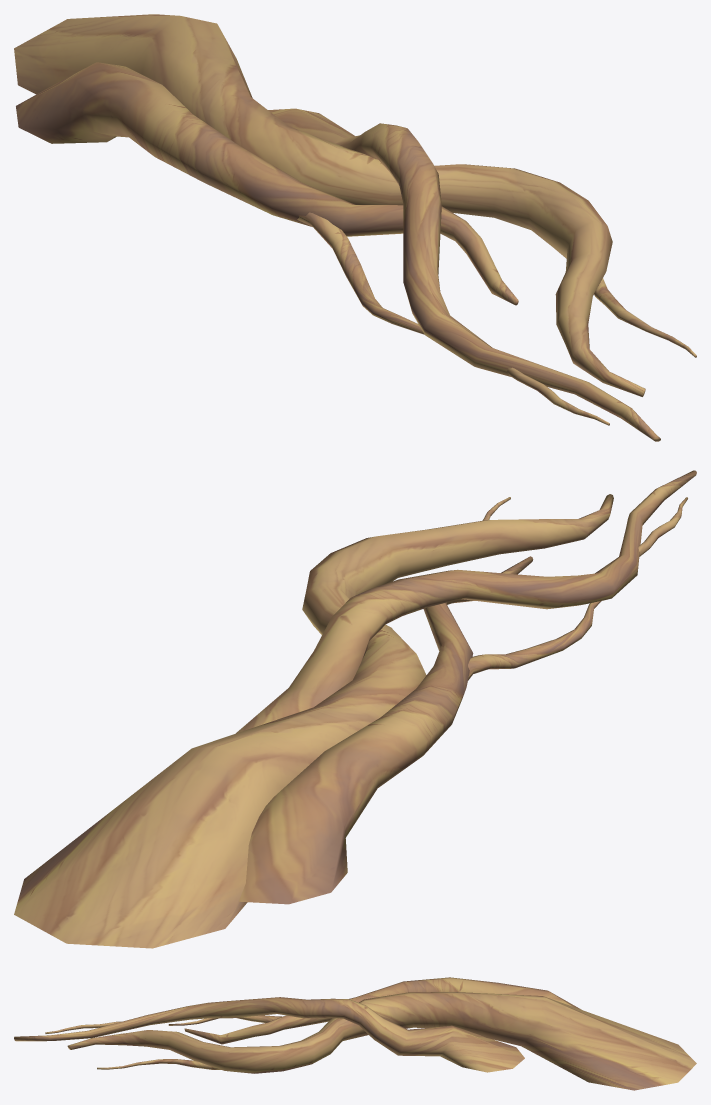
Rendered from SM_ENV_treeroot_ancient_03.fbx.
The picture shows the model from 3 angles, top to bottom: view 1: azimuth 30°, elevation 25°; view 2: azimuth 150°, elevation 25°; view 3: azimuth 270°, elevation 25°; orthographic projection. The views are drawn at different scales.
Visible parts, largest first — view 1: SM_ENV_treeroot_ancient_03_LOD0; view 2: SM_ENV_treeroot_ancient_03_LOD0; view 3: SM_ENV_treeroot_ancient_03_LOD0.
Part boxes in pixels (box(x1,y1,x2,y2)): SM_ENV_treeroot_ancient_03_LOD0: box(14, 14, 696, 441); SM_ENV_treeroot_ancient_03_LOD0: box(14, 470, 696, 948); SM_ENV_treeroot_ancient_03_LOD0: box(14, 977, 696, 1090).
Bounding box in the file's own units: 92.51 × 36.31 × 339.
